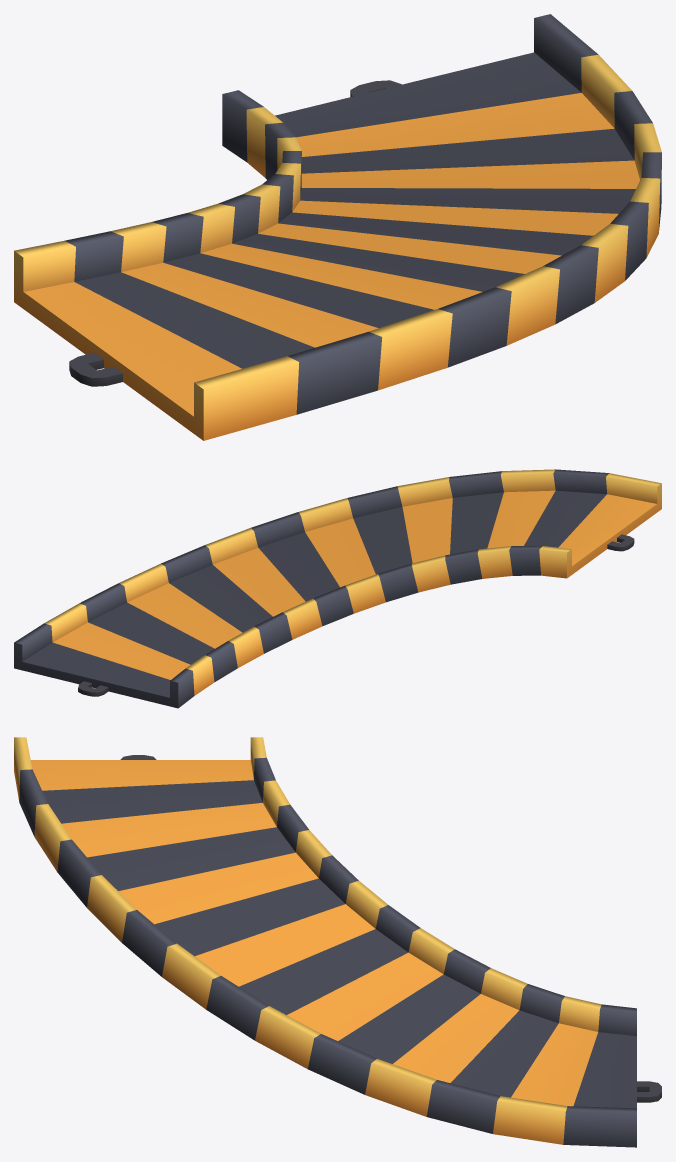
The model's file is track-striped-wide-corner-large-ramp.fbx.
3 renders of one model, top to bottom at view 1: azimuth 30°, elevation 25°; view 2: azimuth 150°, elevation 25°; view 3: azimuth 270°, elevation 25°, orthographic. The views are drawn at different scales.
Visible parts, largest first — view 1: track-striped-wide-corner-large-ramp; view 2: track-striped-wide-corner-large-ramp; view 3: track-striped-wide-corner-large-ramp.
Boxes of the visible parts, box(x1,y1,x2,y2) form: track-striped-wide-corner-large-ramp: box(14, 14, 661, 440); track-striped-wide-corner-large-ramp: box(14, 469, 661, 708); track-striped-wide-corner-large-ramp: box(14, 737, 661, 1147).
Bounding box in the file's own units: 520 × 130 × 520.
